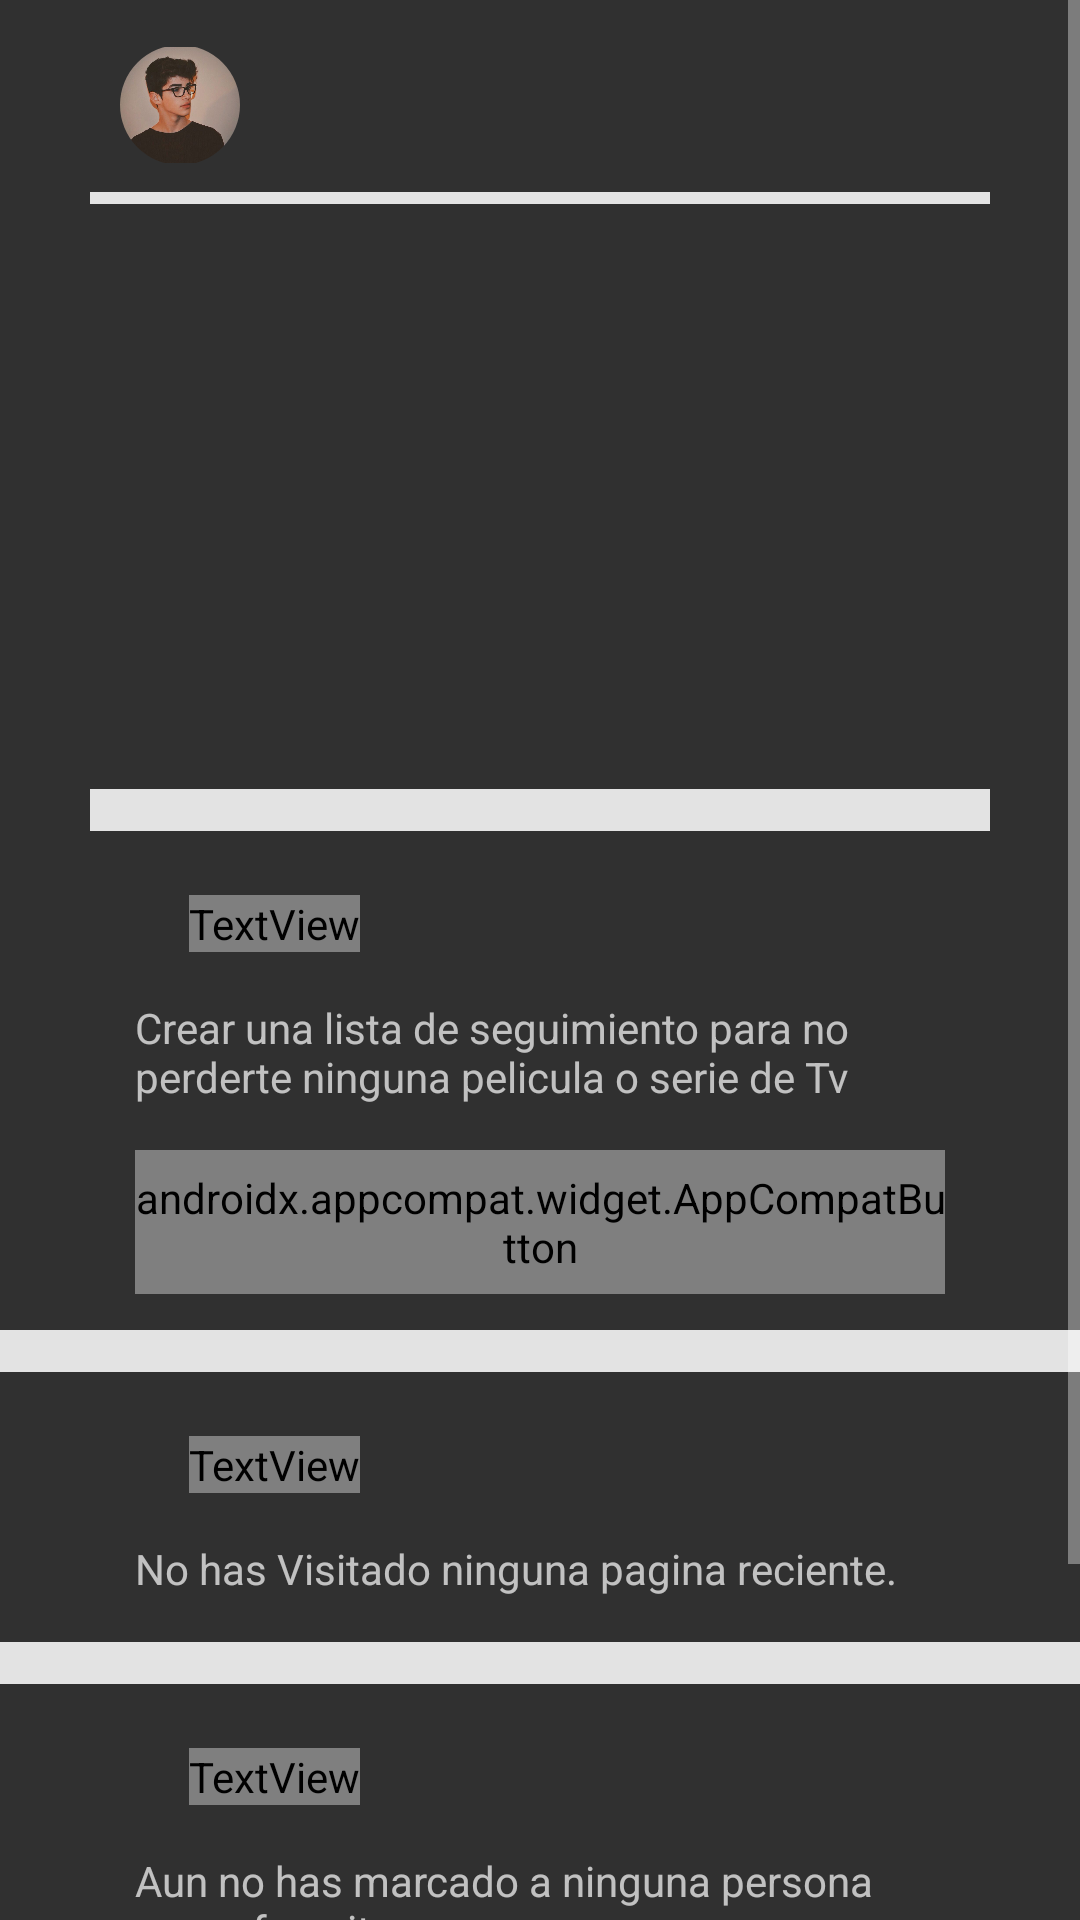

Where icons sit on this 1080*1920 app screen, as {"x1": x1, "y1": y1, "x2": x2, "y2": y2}:
profile: {"x1": 120, "y1": 47, "x2": 240, "y2": 145}
